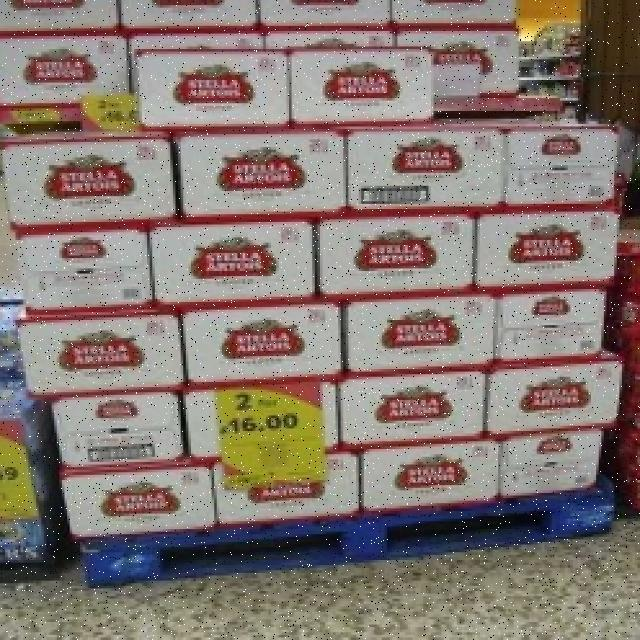box: (4, 128, 172, 222), (177, 126, 348, 215), (150, 222, 328, 307), (11, 306, 185, 392), (179, 383, 353, 460), (57, 460, 221, 536), (350, 126, 502, 208), (335, 216, 485, 299), (331, 377, 506, 448), (140, 44, 288, 126), (341, 296, 496, 374), (481, 204, 622, 287), (36, 381, 185, 458), (0, 36, 132, 121), (485, 358, 640, 428), (22, 226, 154, 308), (206, 452, 363, 520), (290, 42, 430, 116), (186, 306, 346, 369), (501, 125, 616, 204), (358, 446, 499, 510), (495, 286, 612, 354), (404, 26, 520, 94), (504, 434, 601, 486), (121, 0, 270, 28), (0, 0, 126, 33), (260, 0, 390, 26), (390, 0, 508, 26), (268, 22, 404, 44), (130, 34, 272, 54), (388, 17, 394, 23)
